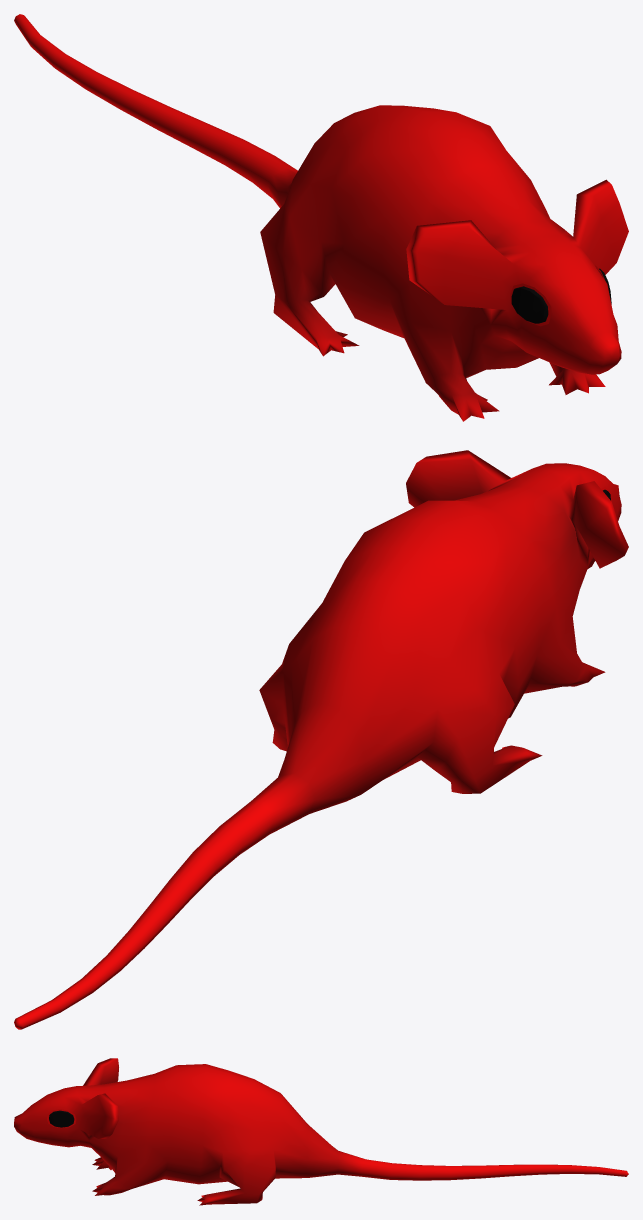
File: Animals_Mouse.fbx
The picture shows the model from 3 angles, top to bottom: view 1: azimuth 30°, elevation 25°; view 2: azimuth 150°, elevation 25°; view 3: azimuth 270°, elevation 25°; orthographic projection. The views are drawn at different scales.
Parts seen in each view (by area): view 1: base; view 2: base; view 3: base.
Boxes of the visible parts, left/top/right/bottom form: base: left=14, top=14, right=628, bottom=421; base: left=14, top=450, right=628, bottom=1029; base: left=14, top=1058, right=628, bottom=1205.
Size of the model in its own units: 21.7 by 20.13 by 102.
